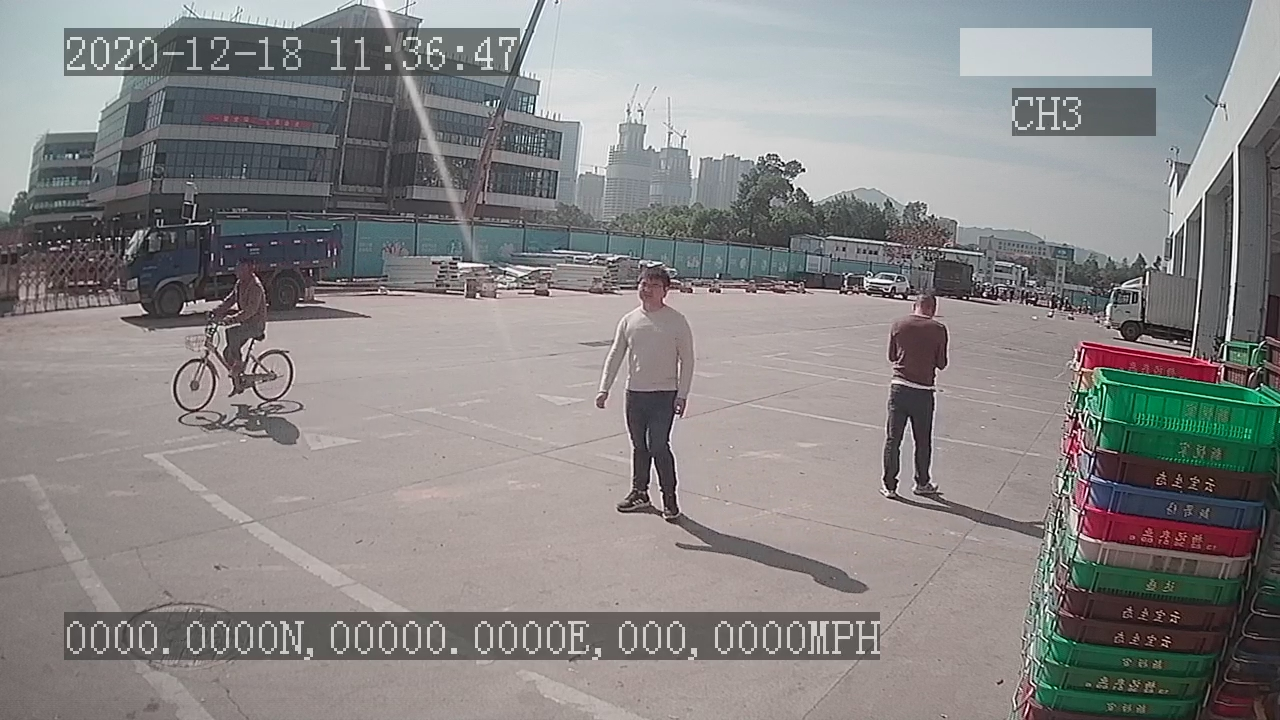person: (598, 262, 699, 517), (881, 291, 952, 501)
